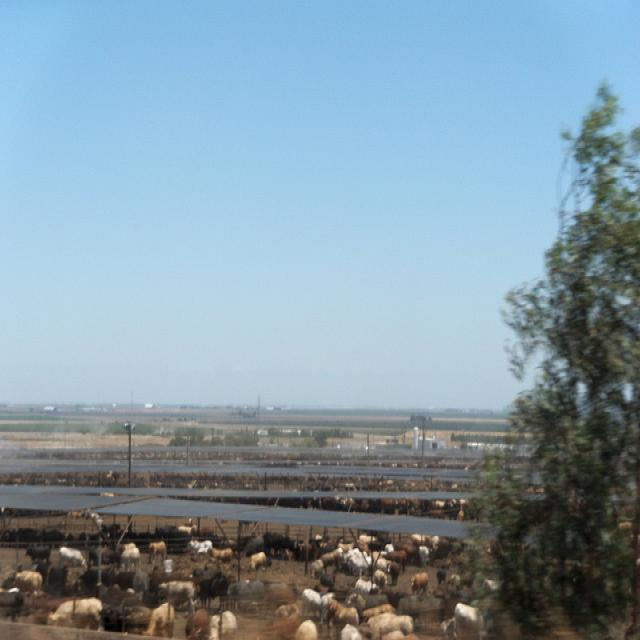cow: (54, 516, 457, 637), (47, 596, 101, 631), (156, 578, 195, 614), (136, 599, 173, 636), (453, 602, 484, 638), (0, 567, 42, 592), (365, 611, 412, 633), (300, 587, 321, 619), (379, 548, 406, 572), (132, 565, 148, 600), (351, 576, 378, 593), (409, 571, 427, 595), (249, 549, 266, 568), (293, 616, 318, 628)
